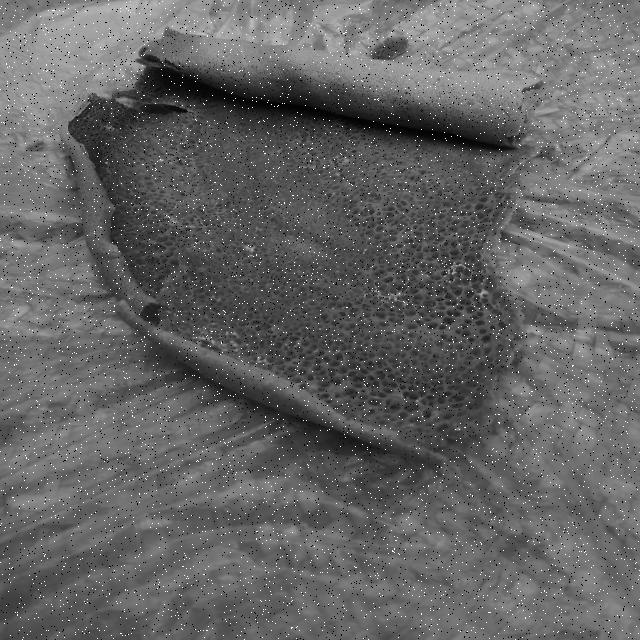injera_mold: (197, 333, 249, 358), (116, 287, 143, 327), (413, 394, 443, 421), (366, 286, 404, 306), (442, 261, 473, 282), (258, 324, 288, 344), (325, 391, 347, 413), (151, 298, 175, 318), (188, 240, 216, 256), (165, 210, 186, 230), (298, 382, 322, 397), (251, 353, 275, 368), (328, 154, 348, 169), (478, 288, 496, 304), (299, 160, 319, 174), (205, 292, 225, 306), (242, 242, 257, 260), (210, 209, 230, 222), (103, 122, 118, 136), (254, 224, 266, 237), (466, 98, 476, 110), (169, 94, 181, 102), (157, 157, 165, 164), (362, 248, 368, 255), (104, 162, 111, 166)
